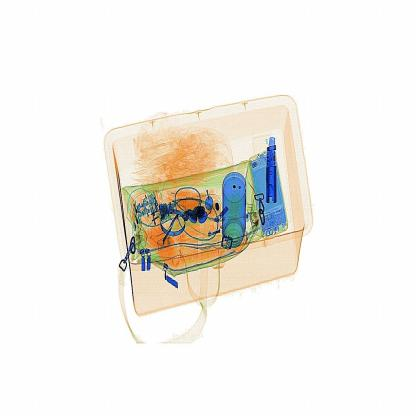pliers: (258, 118, 284, 203)
